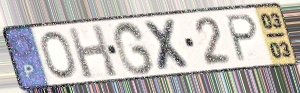2: (193, 16, 233, 68)
G: (111, 20, 156, 77)
H: (66, 23, 120, 80)
O: (39, 30, 78, 80)
P: (225, 12, 260, 64)
X: (141, 17, 196, 72)
